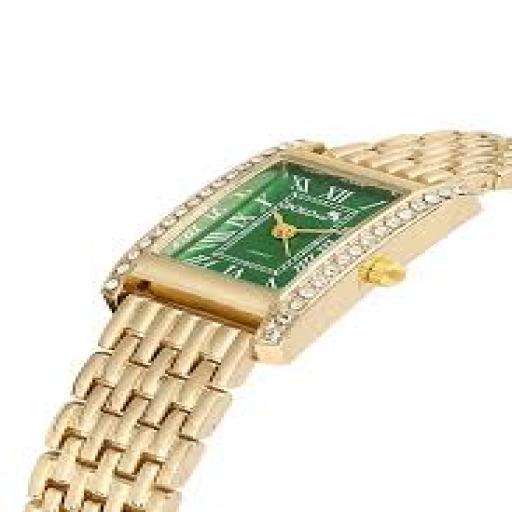KolSaati: (34, 93, 512, 512)
